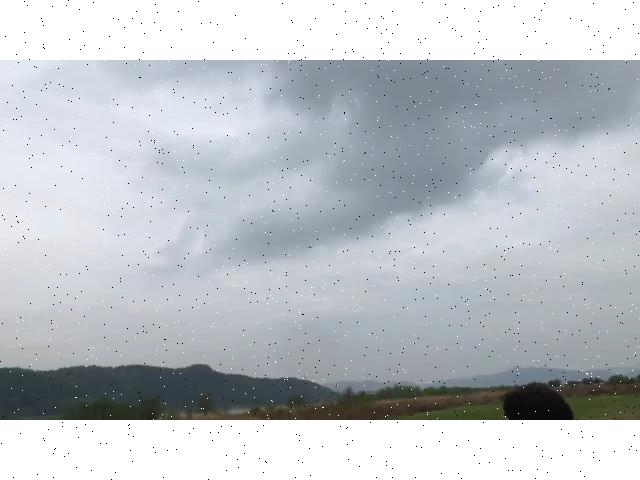Anti-Drone: (302, 239, 320, 253)
